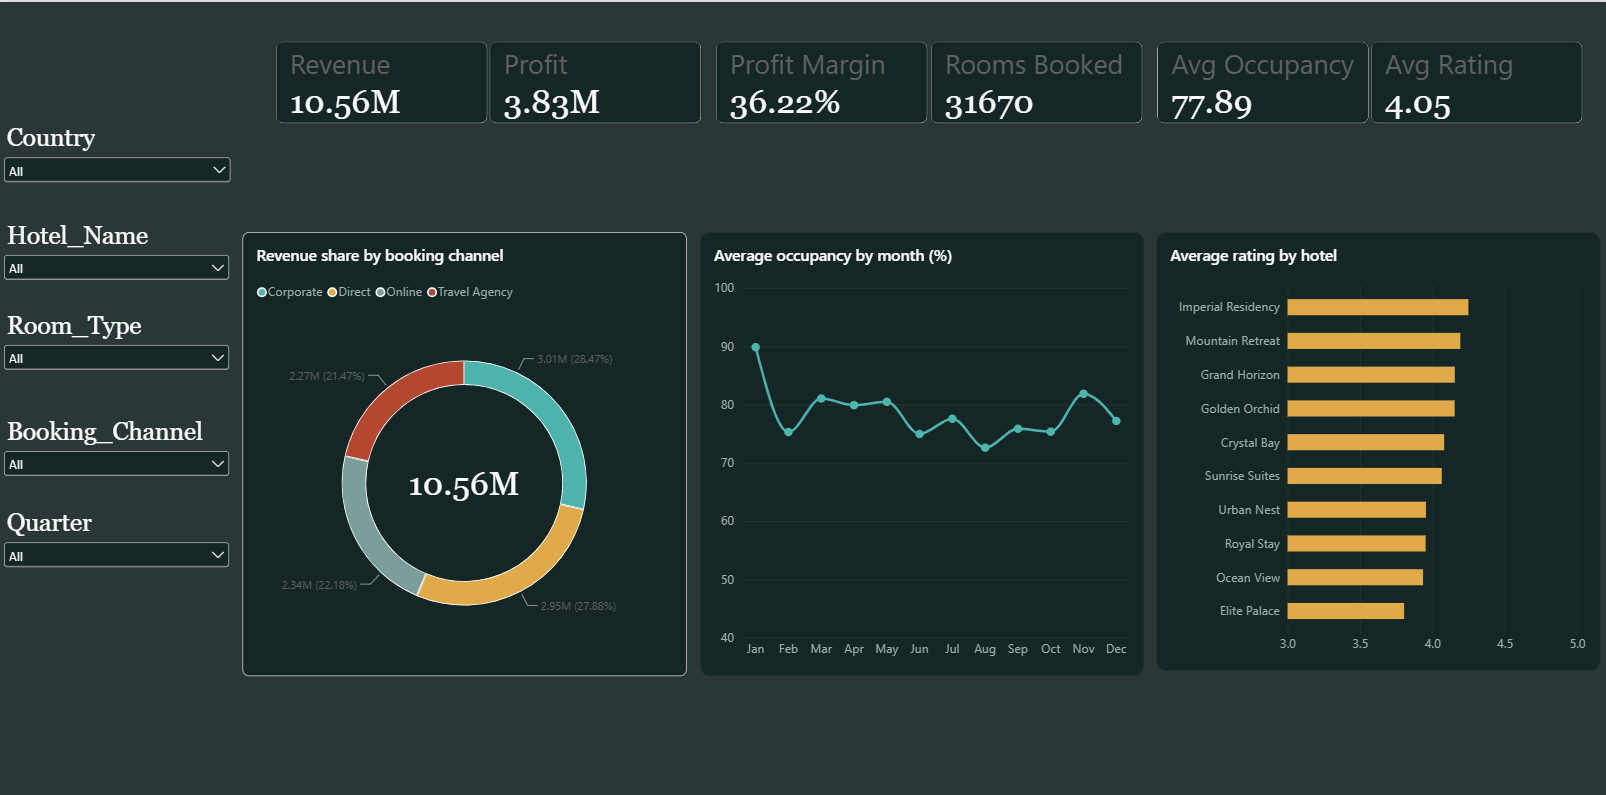

This screenshot's page, from the dashboard's own definition file:
{"tool":"powerbi","page":{"name":"Channels & occupancy","canvas":[1920,1080],"ordinal":2},"visuals":[{"type":"slicer","fields":{"Values":["Hotels.Country"]},"box":[0,144.8,280.5,86.9],"z":0},{"type":"slicer","fields":{"Values":["Hotels.Hotel_Name"]},"box":[0,260.6,278.7,85.1],"z":1000},{"type":"slicer","fields":{"Values":["Hotels.Room_Type"]},"box":[0,369.2,278.7,83.2],"z":2000},{"type":"slicer","fields":{"Values":["Hotels.Booking_Channel"]},"box":[0,495.8,278.7,86.9],"z":3000},{"type":"slicer","fields":{"Values":["Hotels.Quarter"]},"box":[0,604.4,278.7,88.7],"z":4000},{"type":"cardVisual","fields":{"Data":["Hotels.Total Revenue"]},"box":[328,46,255,100],"z":5000},{"type":"cardVisual","fields":{"Data":["Hotels.Total Profit"]},"box":[584,46,255,100],"z":6000},{"type":"cardVisual","fields":{"Data":["Hotels.Profit Margin"]},"box":[854,46,255,100],"z":7000},{"type":"cardVisual","fields":{"Data":["Hotels.Rooms Booked"]},"box":[1110,46,255,100],"z":8000},{"type":"cardVisual","fields":{"Data":["Hotels.Avg Occupancy"]},"box":[1380,46,255,100],"z":9000},{"type":"cardVisual","fields":{"Data":["Hotels.Avg Rating"]},"box":[1636,46,255,100],"z":10000},{"type":"donutChart","title":"Revenue share by booking channel","fields":{"Category":["Hotels.Booking_Channel"],"Y":["Hotels.Total Revenue"]},"box":[290,274,530,530],"z":11000},{"type":"lineChart","title":"Average occupancy by month (%)","fields":{"Category":["Hotels.Month_Name"],"Y":["Hotels.Avg Occupancy"]},"box":[836,274,530,530],"z":12000},{"type":"clusteredBarChart","title":"Average rating by hotel","fields":{"Category":["Hotels.Hotel_Name"],"Y":["Hotels.Avg Rating"]},"box":[1380,274,530,524],"z":13000}]}

Visuals, with their boxes on the page's 1920x1080 design canvas (x1, y1, x2, y2). These are canvas units, not pixel positions in the 1606x795 screenshot, which may show the page scaled, cropped or inside an application window:
slicer - Hotels.Country: [0,145,280,232]
slicer - Hotels.Hotel_Name: [0,261,279,346]
slicer - Hotels.Room_Type: [0,369,279,452]
slicer - Hotels.Booking_Channel: [0,496,279,583]
slicer - Hotels.Quarter: [0,604,279,693]
cardVisual - Hotels.Total Revenue: [328,46,583,146]
cardVisual - Hotels.Total Profit: [584,46,839,146]
cardVisual - Hotels.Profit Margin: [854,46,1109,146]
cardVisual - Hotels.Rooms Booked: [1110,46,1365,146]
cardVisual - Hotels.Avg Occupancy: [1380,46,1635,146]
cardVisual - Hotels.Avg Rating: [1636,46,1891,146]
"Revenue share by booking channel" donutChart: [290,274,820,804]
"Average occupancy by month (%)" lineChart: [836,274,1366,804]
"Average rating by hotel" clusteredBarChart: [1380,274,1910,798]
